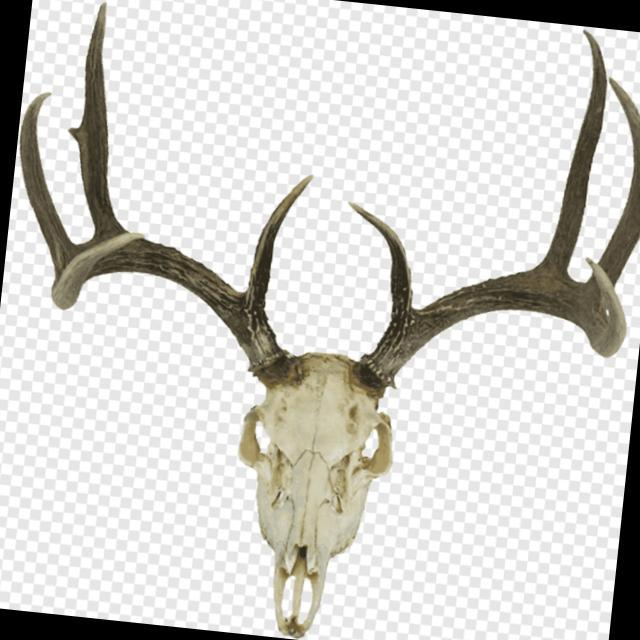L-F: (353, 254, 631, 399)
L-G1: (345, 199, 414, 322)
L-G2: (533, 28, 608, 276)
R-F: (51, 232, 283, 368)
R-G1: (243, 172, 314, 310)
R-G2: (65, 0, 127, 239)
R-G3: (18, 89, 76, 279)
